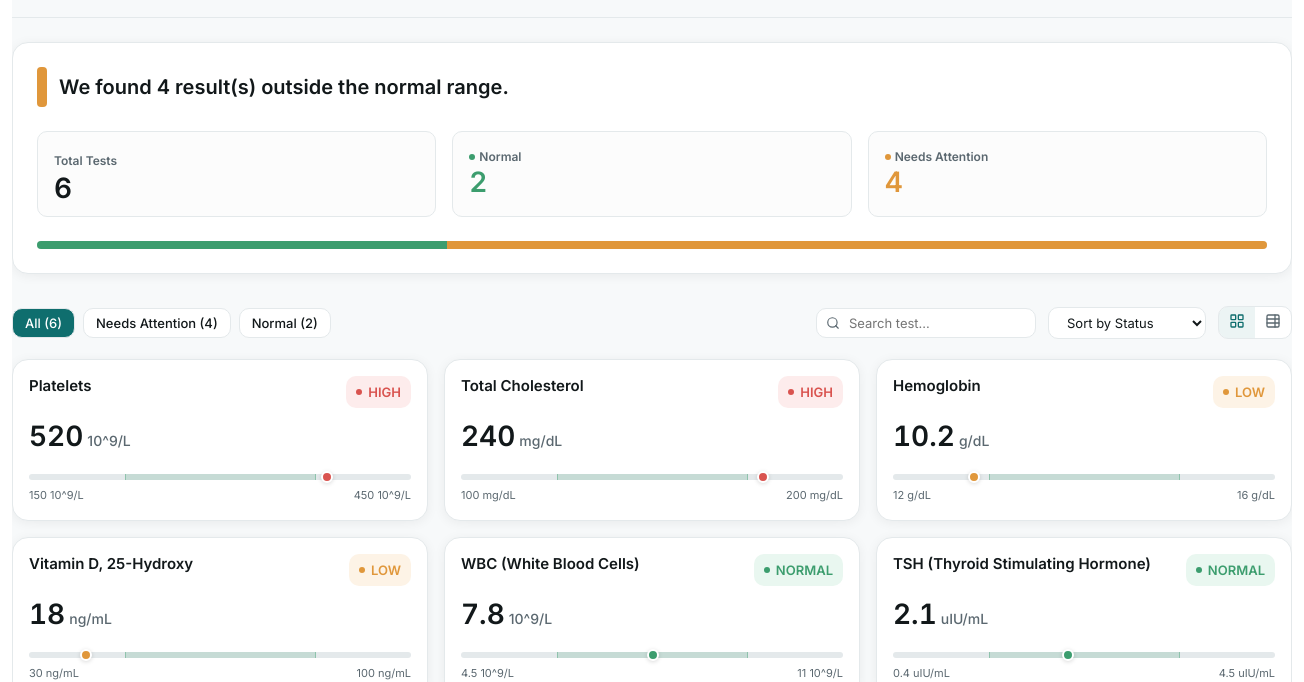
Test: Dashboard Container Component › toggles card layout and table layout views
The width and height of the screenshot is (1304, 682).
# Toggle table
Click the button with test id "table-view-btn" at (1273, 322), box [1255,307,1291,338]
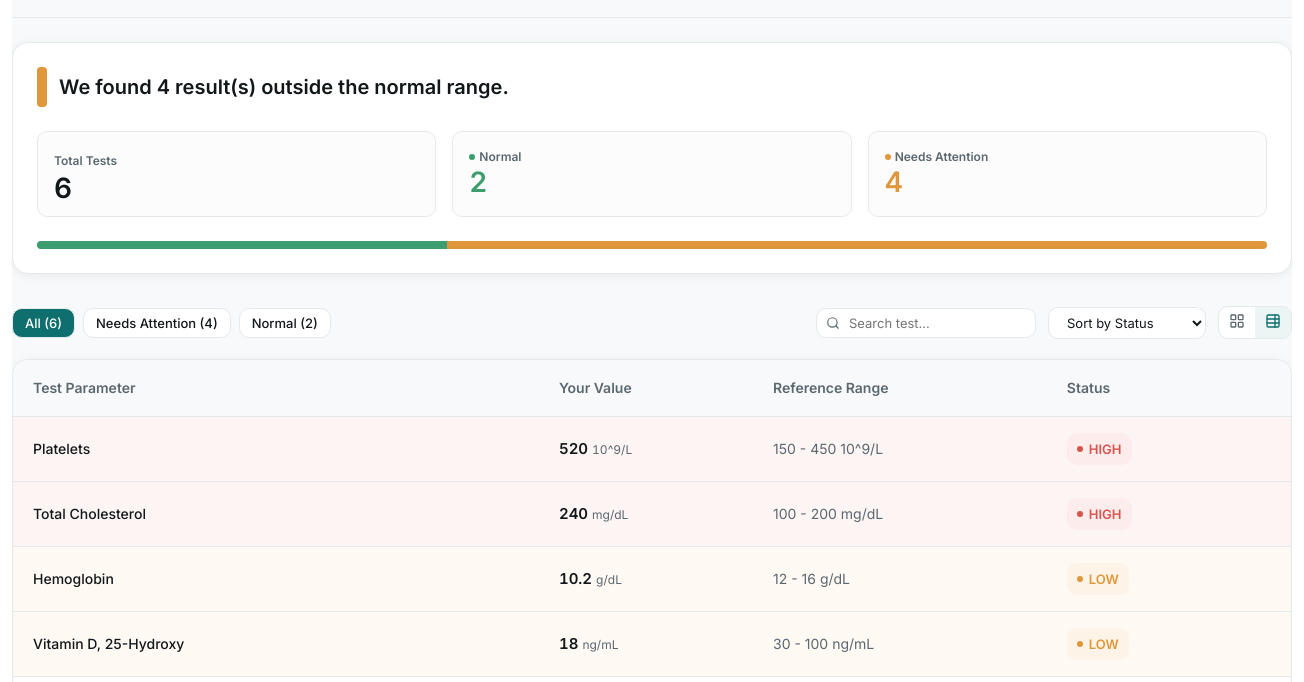
# Toggle back to card grid
Click the button with test id "card-view-btn" at (1237, 322), box [1219,307,1255,338]
(page scrolled)
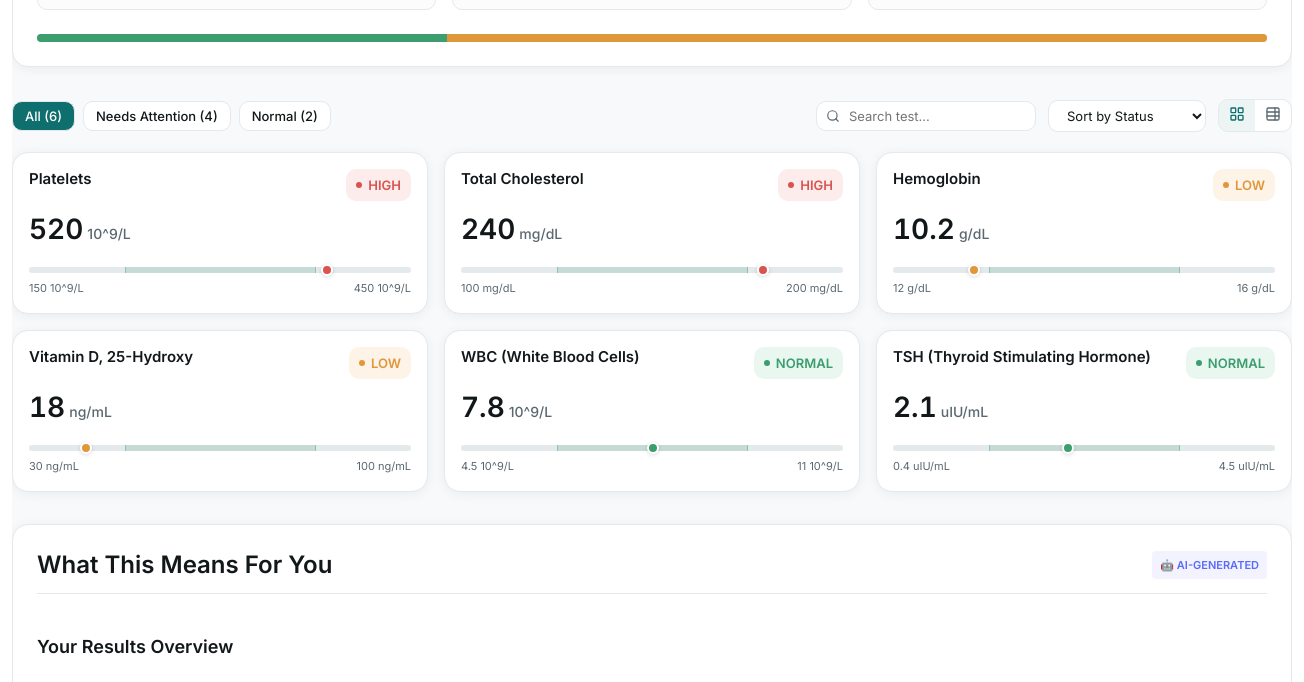
Now the element with test id "results-grid" is shown, box [12,152,1292,492]
